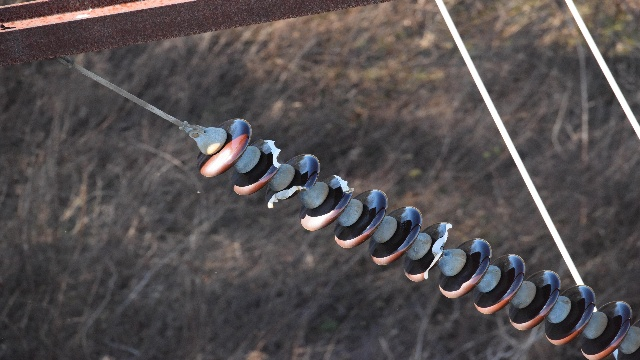broken_local: (422, 222, 454, 282), (263, 181, 313, 212), (257, 135, 282, 169), (330, 170, 360, 198)
insulator_unspecified: (196, 118, 634, 359)
